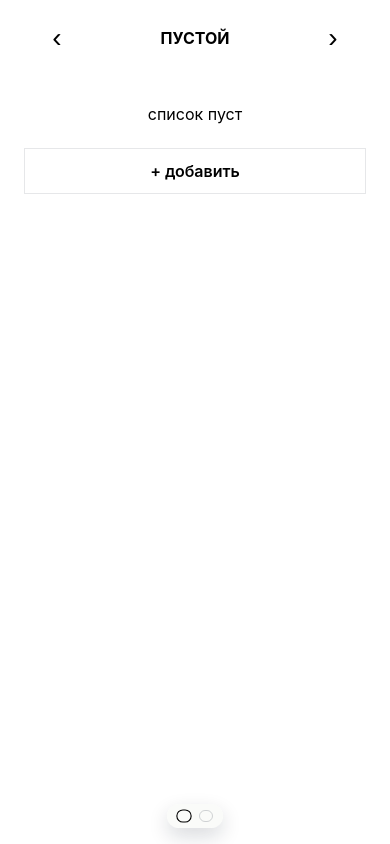
Scenario: Shopping mobile swipe container › renders the empty state message when a list has no items and keeps paging functional
Expected: the list item "список пуст" is shown, x1=148 y1=104 x2=242 y2=124
Expected: the button "+ добавить" is shown, x1=24 y1=148 x2=366 y2=194
Press the mouse on the element with test id "shopping-mobile-content": (195, 149) x1=24 y1=104 x2=366 y2=194
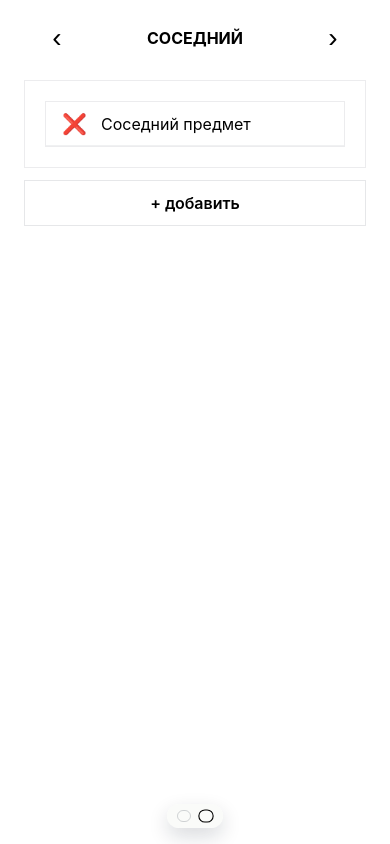
Expected: the list item "список пуст" is gone
